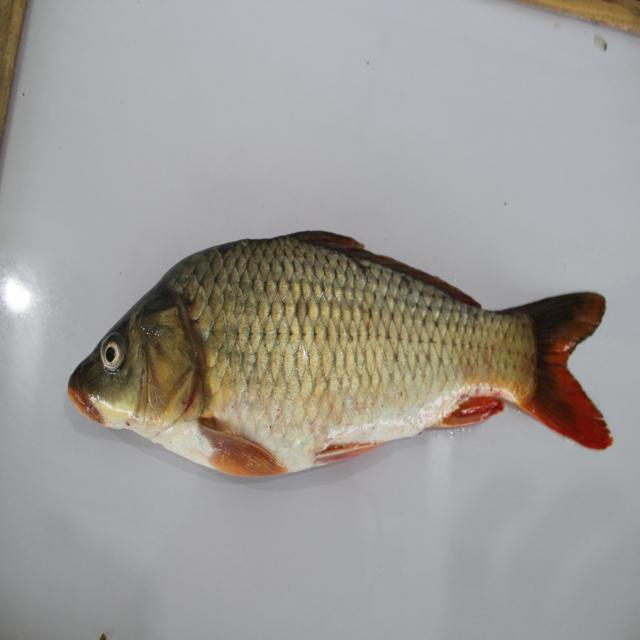CommonCarp: (53, 216, 618, 492)
